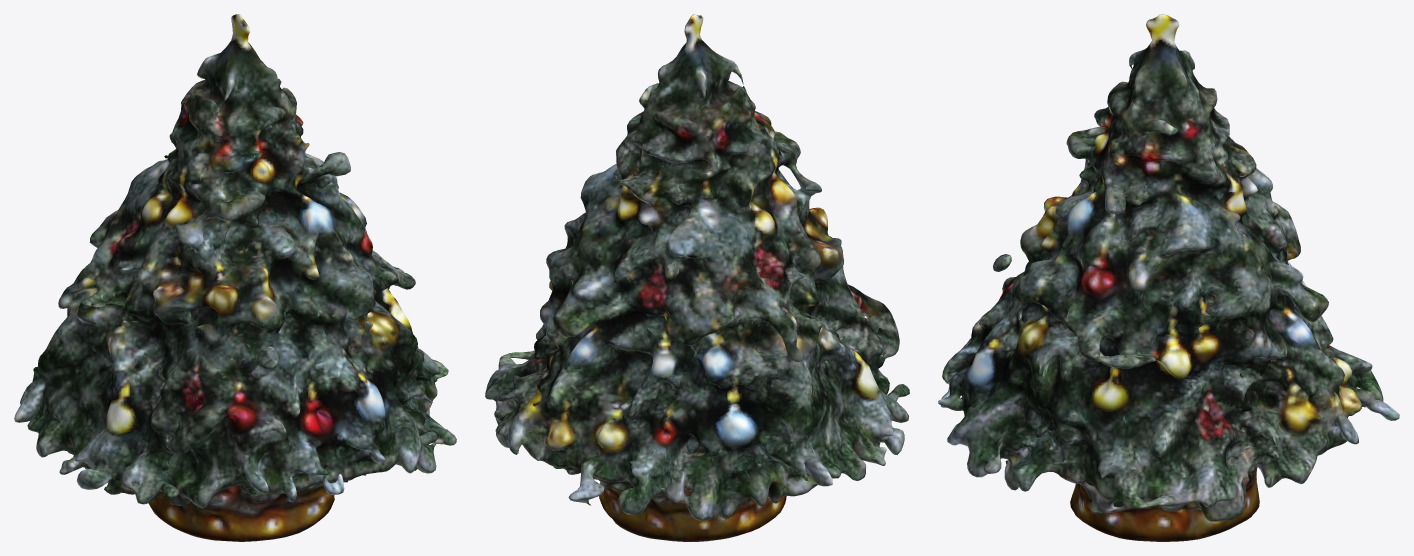
File: tree_alt.glb
The picture shows the model from 3 angles, left to right: view 1: azimuth 30°, elevation 25°; view 2: azimuth 150°, elevation 25°; view 3: azimuth 270°, elevation 25°; orthographic projection.
Visible parts, largest first — view 1: model_0; view 2: model_0; view 3: model_0.
Boxes of the visible parts, box(x1,y1,x2,y2) form: model_0: box(14, 14, 456, 541); model_0: box(485, 14, 909, 541); model_0: box(938, 14, 1399, 541).
Size of the model in its own units: 1.36 by 1.7 by 1.41.
1 material, 1 textured.
